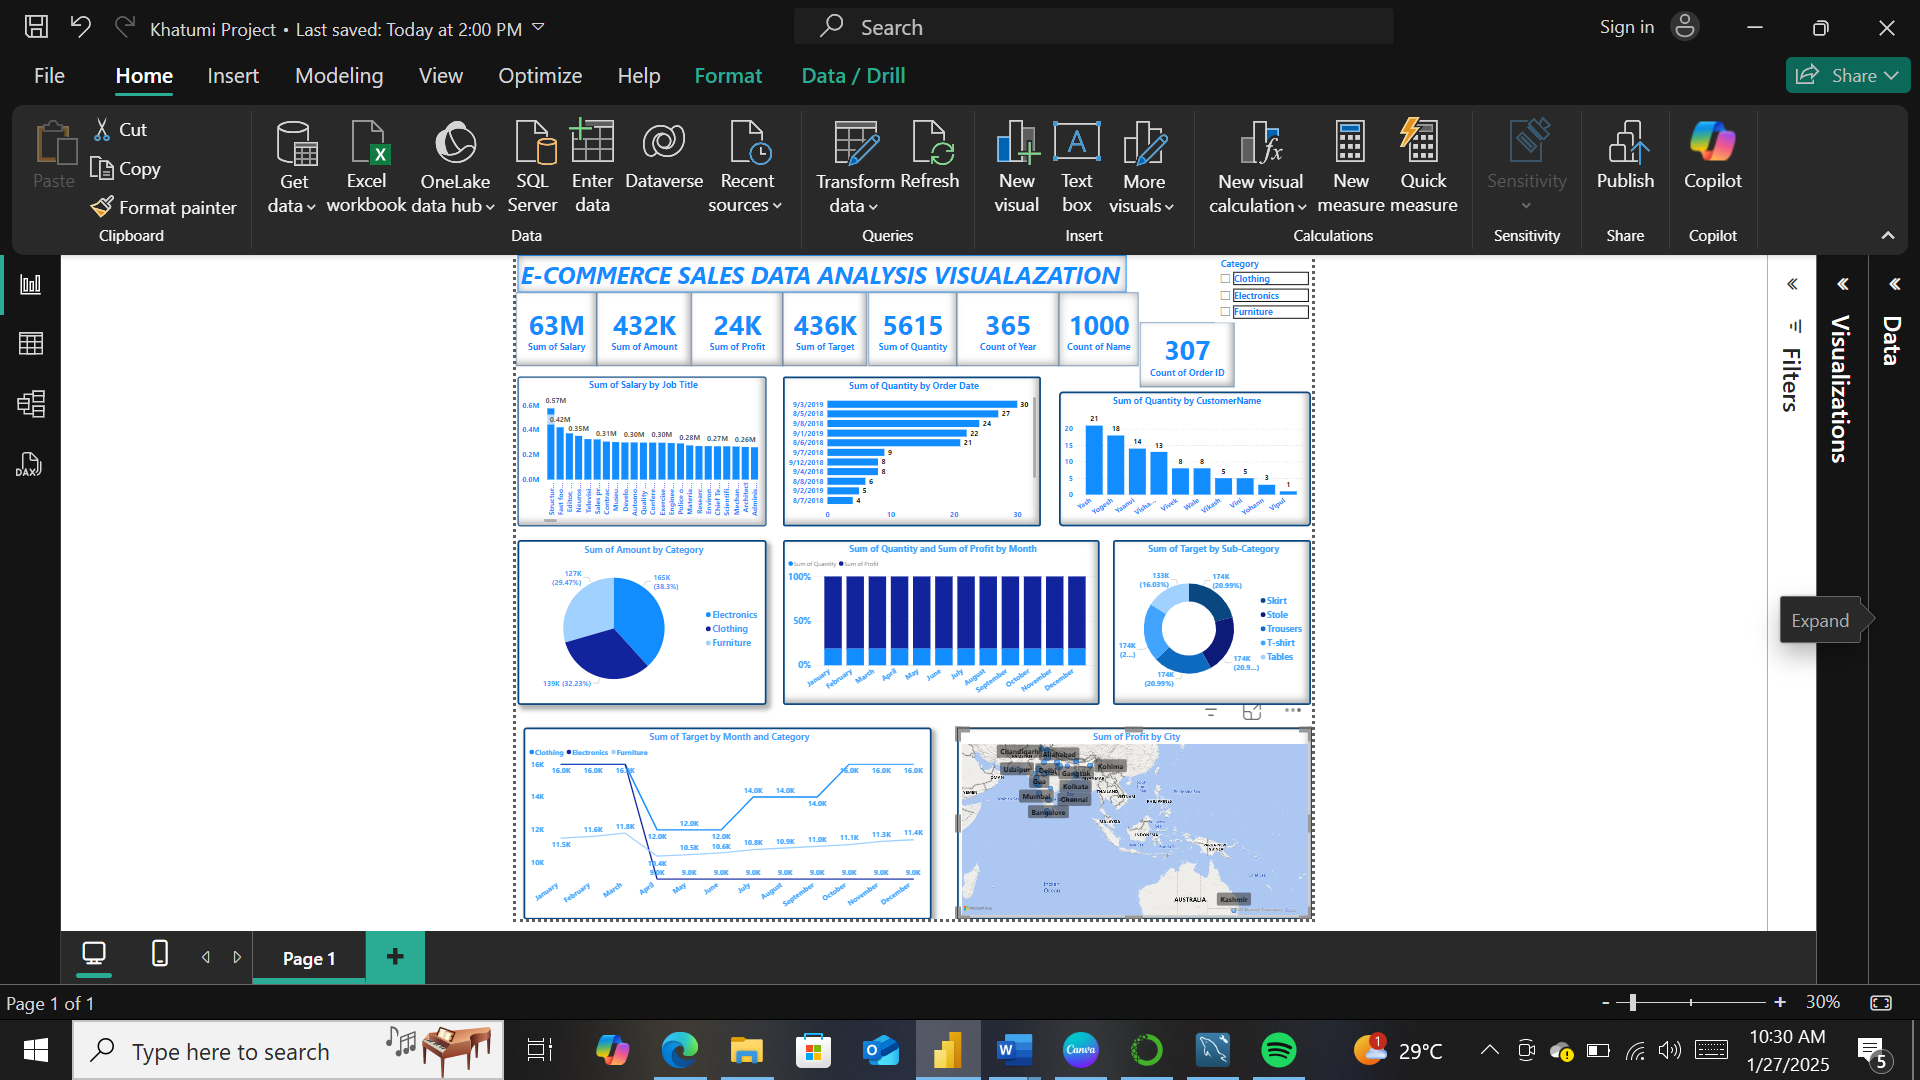

The page's visual inventory and layout, read from the dashboard file:
{"tool":"powerbi","page":{"name":"Page 1","canvas":[1800,1500],"ordinal":0},"visuals":[{"type":"textbox","box":[3.4,0,1375.8,84.7],"z":0},{"type":"card","fields":{"Values":["employees_england.Salary"]},"box":[0,84.7,183,166],"z":1},{"type":"card","fields":{"Values":["Order Details.Amount"]},"box":[183,84.7,213.5,166],"z":2},{"type":"card","fields":{"Values":["Order Details.Profit"]},"box":[396.5,84.7,206.7,166],"z":3},{"type":"card","fields":{"Values":["Order Details.Quantity"]},"box":[796.3,84.7,199.9,166],"z":4},{"type":"card","fields":{"Values":["Sales target.Month of Order Date.Variation.Date Hierarchy.Year"]},"box":[996.3,84.7,230.4,166],"z":5},{"type":"card","fields":{"Values":["Sales target.Target"]},"box":[603.2,84.7,189.8,166],"z":6},{"type":"card","fields":{"Values":["List of Orders.Order ID"]},"box":[1409.7,152.5,213.5,145.7],"z":8},{"type":"card","fields":{"Values":["employees_england.Name"]},"box":[1226.7,84.7,179.6,166],"z":9},{"type":"slicer","fields":{"Values":["Sales target.Category"]},"box":[1579.1,0,216.9,152.5],"z":10},{"type":"map","fields":{"Category":["List of Orders.City"],"Size":["Order Details.Profit"]},"box":[996.3,1067.4,803.1,433.7],"z":11},{"type":"lineStackedColumnComboChart","fields":{"Category":["employees_england.Job Title"],"Y":["employees_england.Salary"]},"box":[3.4,274.5,562.5,338.9],"z":12},{"type":"clusteredBarChart","fields":{"Category":["List of Orders.Order Date"],"Y":["Order Details.Quantity"]},"box":[603.2,274.5,582.8,338.9],"z":13},{"type":"pieChart","fields":{"Category":["Order Details.Category"],"Y":["Order Details.Amount"]},"box":[3.4,643.8,562.5,372.7],"z":14},{"type":"hundredPercentStackedColumnChart","fields":{"Y":["Order Details.Quantity","Order Details.Profit"],"Category":["Sales target.Month of Order Date.Variation.Date Hierarchy.Month"]},"box":[603.2,643.8,715,372.7],"z":15},{"type":"lineChart","fields":{"Category":["Sales target.Month of Order Date.Variation.Date Hierarchy.Month"],"Y":["Sales target.Target"],"Series":["Sales target.Category"]},"box":[16.9,1067.4,921.7,433.7],"z":16},{"type":"clusteredColumnChart","fields":{"Category":["List of Orders.CustomerName"],"Y":["Order Details.Quantity"]},"box":[1226.7,308.4,569.3,305],"z":17},{"type":"donutChart","fields":{"Category":["Order Details.Sub-Category"],"Y":["Sales target.Target"]},"box":[1348.7,643.8,447.3,372.7],"z":18}]}

Visuals, with their boxes on the page's 1800x1500 design canvas (x1, y1, x2, y2). These are canvas units, not pixel positions in the 1920x1080 screenshot, which may show the page scaled, cropped or inside an application window:
textbox: bbox(3, 0, 1379, 85)
card - employees_england.Salary: bbox(0, 85, 183, 251)
card - Order Details.Amount: bbox(183, 85, 396, 251)
card - Order Details.Profit: bbox(396, 85, 603, 251)
card - Order Details.Quantity: bbox(796, 85, 996, 251)
card - Sales target.Month of Order Date.Variation.Date Hierarchy.Year: bbox(996, 85, 1227, 251)
card - Sales target.Target: bbox(603, 85, 793, 251)
card - List of Orders.Order ID: bbox(1410, 152, 1623, 298)
card - employees_england.Name: bbox(1227, 85, 1406, 251)
slicer - Sales target.Category: bbox(1579, 0, 1796, 152)
map - List of Orders.City x Order Details.Profit: bbox(996, 1067, 1799, 1501)
lineStackedColumnComboChart - employees_england.Job Title x employees_england.Salary: bbox(3, 274, 566, 613)
clusteredBarChart - List of Orders.Order Date x Order Details.Quantity: bbox(603, 274, 1186, 613)
pieChart - Order Details.Category x Order Details.Amount: bbox(3, 644, 566, 1016)
hundredPercentStackedColumnChart - Order Details.Quantity x Order Details.Profit: bbox(603, 644, 1318, 1016)
lineChart - Sales target.Month of Order Date.Variation.Date Hierarchy.Month x Sales target.Target: bbox(17, 1067, 939, 1501)
clusteredColumnChart - List of Orders.CustomerName x Order Details.Quantity: bbox(1227, 308, 1796, 613)
donutChart - Order Details.Sub-Category x Sales target.Target: bbox(1349, 644, 1796, 1016)
